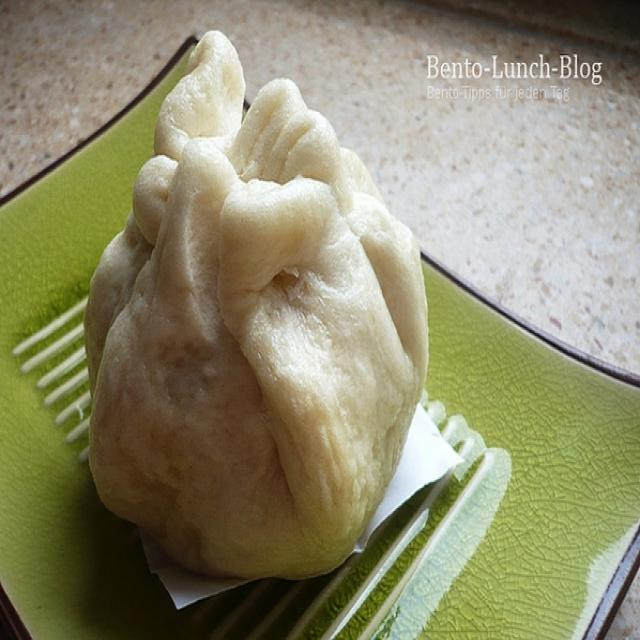带馅早点: (47, 15, 475, 597)
